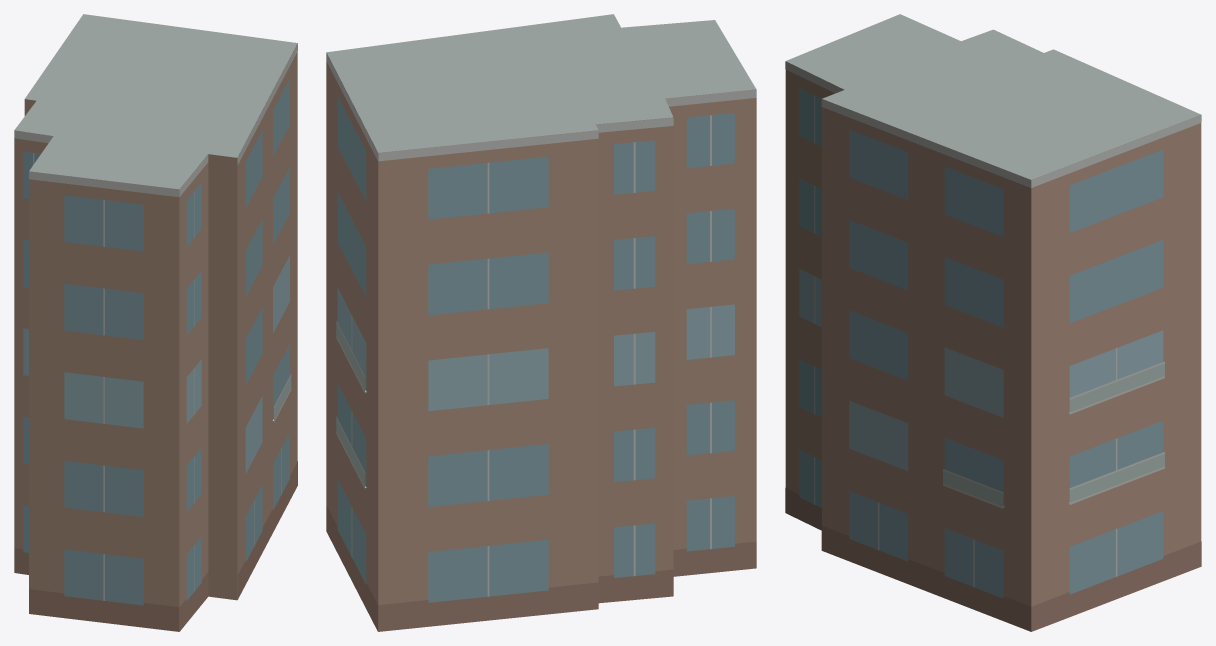
The model's file is survey-upis-32650675.glb.
The picture shows the model from 3 angles, left to right: view 1: azimuth 30°, elevation 25°; view 2: azimuth 150°, elevation 25°; view 3: azimuth 270°, elevation 25°; orthographic projection. The views are drawn at different scales.
Parts seen in each view (by area): view 1: survey-upis-32650675.tmp; view 2: survey-upis-32650675.tmp; view 3: survey-upis-32650675.tmp.
Boxes of the visible parts, box(x1,y1,x2,y2) form: survey-upis-32650675.tmp: box(14, 14, 297, 631); survey-upis-32650675.tmp: box(326, 14, 756, 631); survey-upis-32650675.tmp: box(785, 14, 1201, 631).
Bounding box in the file's own units: 10.76 × 13.65 × 11.4.
